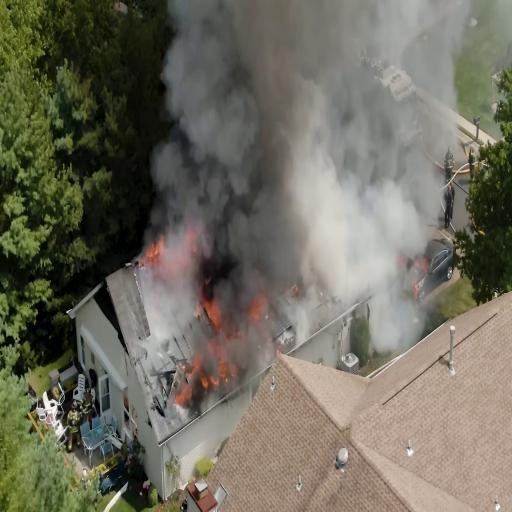smoke: (188, 0, 311, 224), (306, 7, 415, 246)
